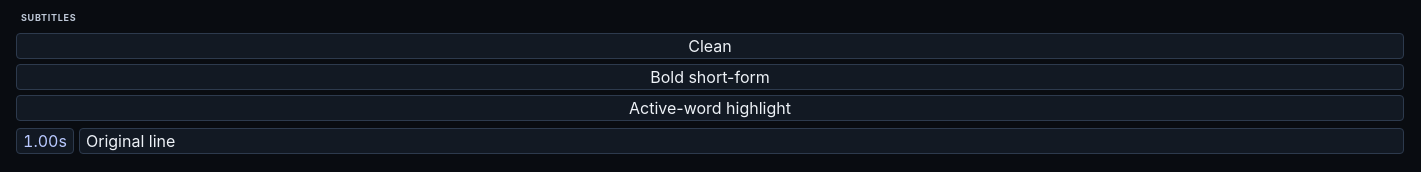
it: SubtitlePanel › restores confirmed subtitle text when the authoritative edit is rejected
The width and height of the screenshot is (1421, 172).
Replace the text in the field named "Subtitle 1 text" with "Rejected line" at (742, 141), box [79,128,1404,154]
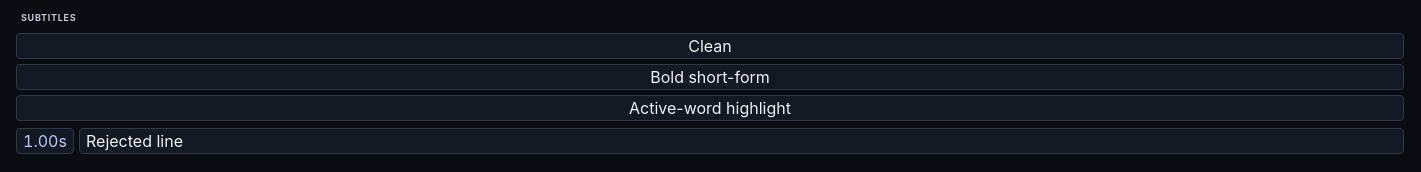
Leave the field named "Subtitle 1 text", box [79,128,1404,154]
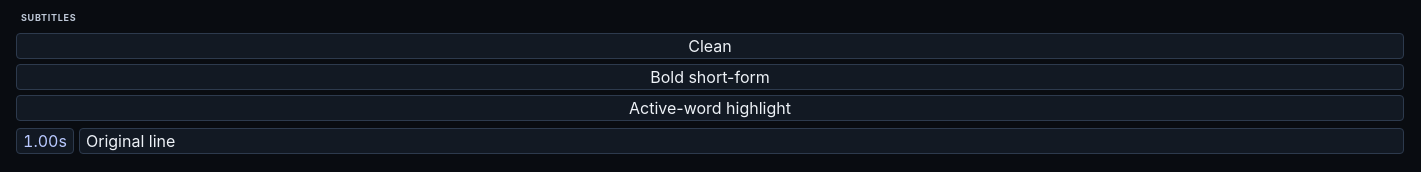
Result: the field named "Subtitle 1 text" holds "Original line" at [79,128,1404,154]
